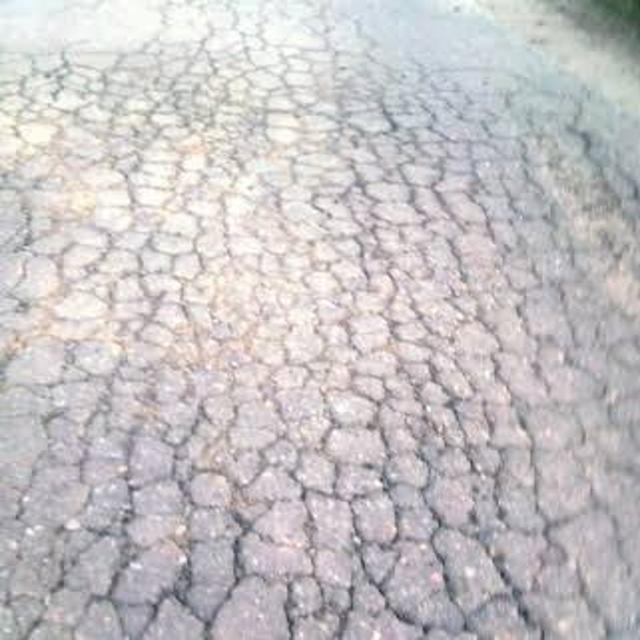Retak Buaya: (0, 34, 640, 640)
